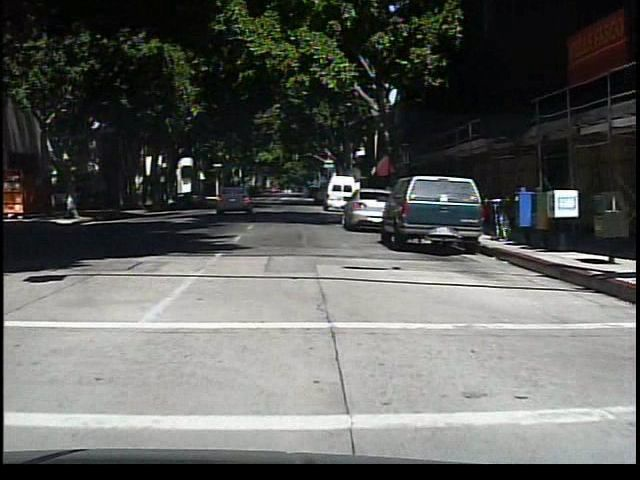person: (60, 178, 77, 220), (294, 180, 313, 207)
